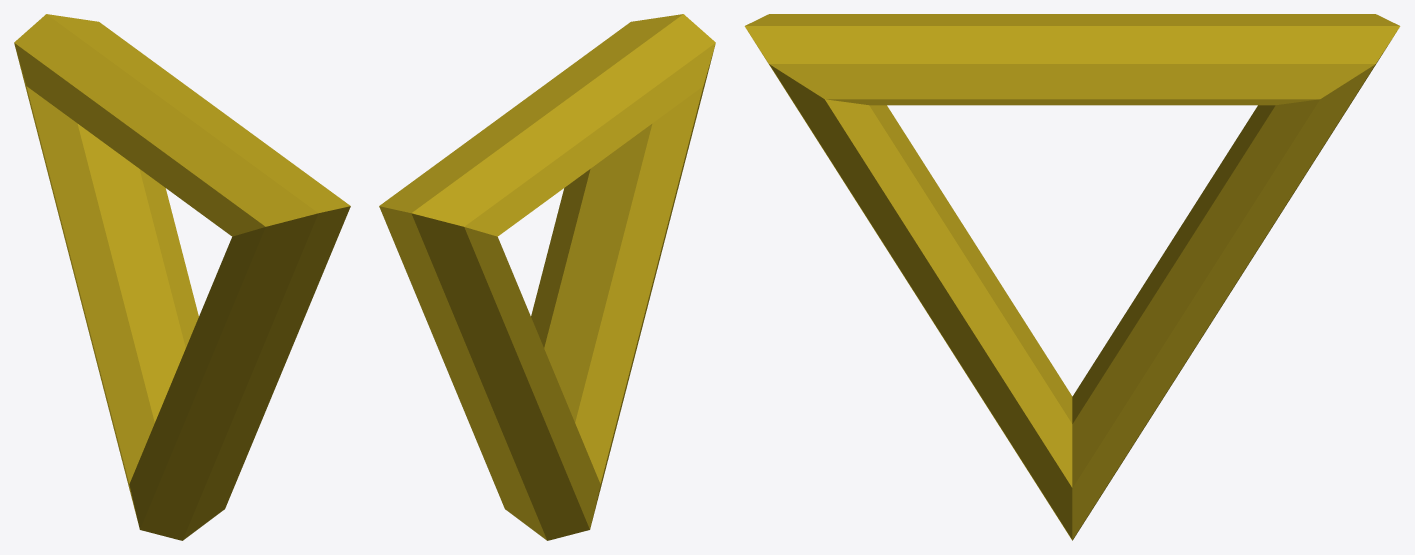
File: basePickup.fbx
The picture shows the model from 3 angles, left to right: view 1: azimuth 30°, elevation 25°; view 2: azimuth 150°, elevation 25°; view 3: azimuth 270°, elevation 25°; orthographic projection. The views are drawn at different scales.
Visible parts, largest first — view 1: Torus; view 2: Torus; view 3: Torus.
Part boxes in pixels (x1=…): Torus: x1=14, y1=14, x2=350, y2=540; Torus: x1=379, y1=14, x2=715, y2=540; Torus: x1=744, y1=14, x2=1400, y2=540.
Size of the model in its own units: 48.75 by 188 by 217.
